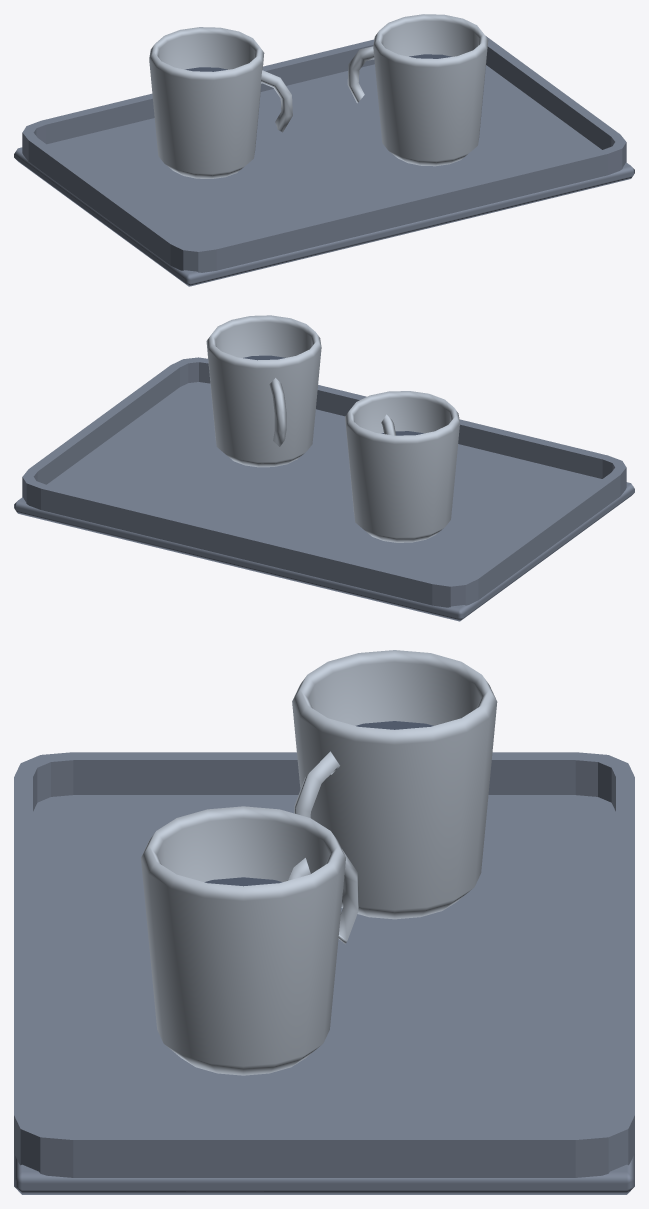
The model's file is 托盘杯子-lite.glb.
The picture shows the model from 3 angles, top to bottom: view 1: azimuth 30°, elevation 25°; view 2: azimuth 150°, elevation 25°; view 3: azimuth 270°, elevation 25°; orthographic projection. The views are drawn at different scales.
Visible parts, largest first — view 1: decor-tea-tray; view 2: decor-tea-tray; view 3: decor-tea-tray.
Part boxes in pixels (x1,y1,x2,y2): decor-tea-tray: (14, 14, 634, 286); decor-tea-tray: (14, 315, 634, 621); decor-tea-tray: (14, 650, 634, 1194).
Bounding box in the file's own units: 0.34 × 0.094 × 0.23.
